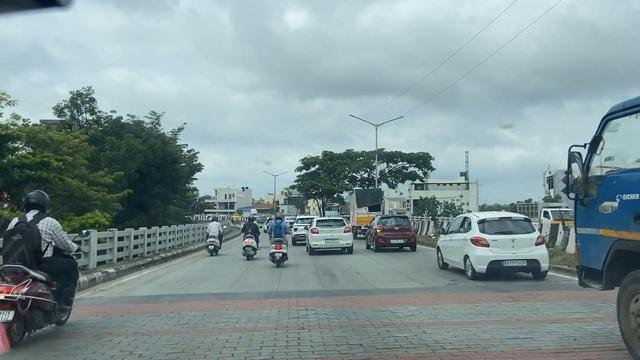LMV: (4, 186, 62, 326), (477, 204, 544, 277), (376, 213, 414, 249), (199, 214, 230, 255), (317, 216, 348, 245), (276, 213, 287, 264), (244, 214, 256, 259)
SpeedBump: (117, 296, 614, 360)
